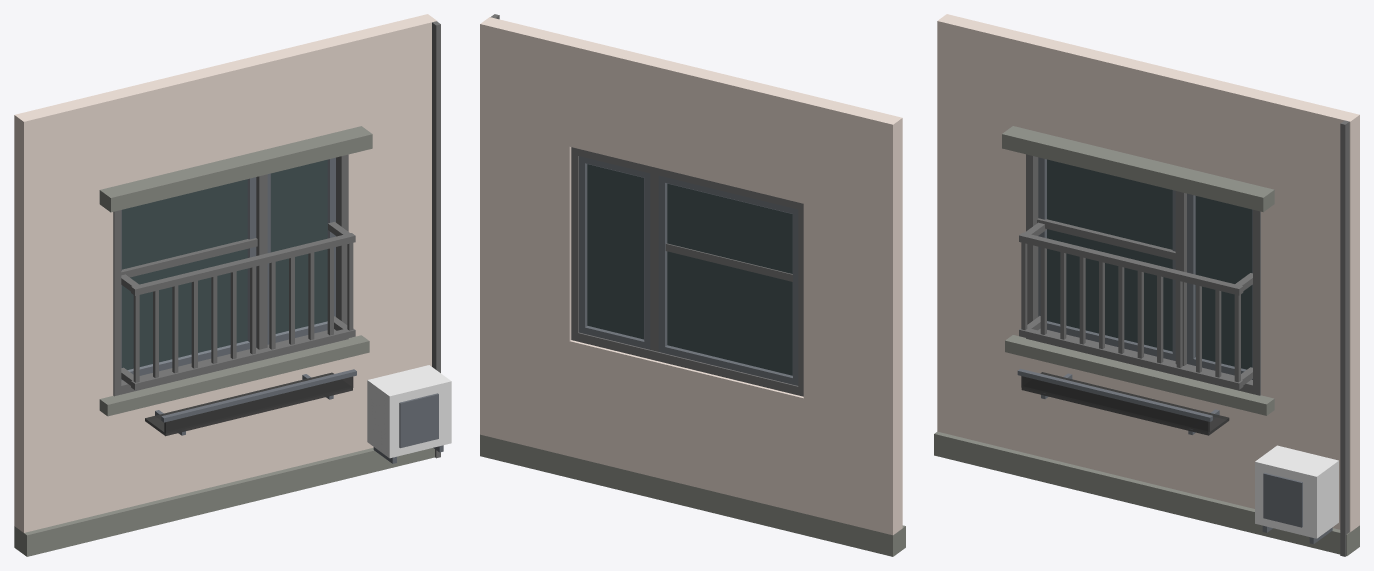
File: mid-w1_close.fbx
3 views of the same model, side by side, from view 1: azimuth 30°, elevation 25°; view 2: azimuth 150°, elevation 25°; view 3: azimuth 330°, elevation 25° (orthographic).
Visible parts, largest first — view 1: a2006_mid-w1.001; view 2: a2006_mid-w1.001; view 3: a2006_mid-w1.001.
Part boxes in pixels (x1=…): a2006_mid-w1.001: x1=14, y1=14, x2=451, y2=556; a2006_mid-w1.001: x1=480, y1=14, x2=905, y2=556; a2006_mid-w1.001: x1=934, y1=14, x2=1359, y2=556.
Bounding box in the file's own units: 3 × 3 × 0.495.
